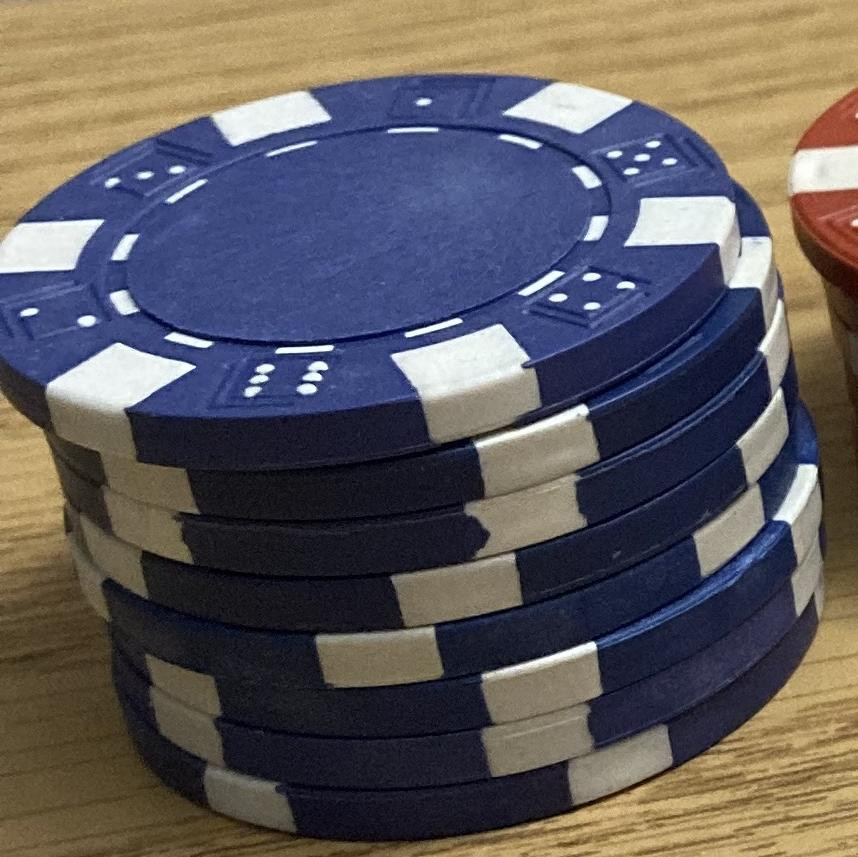Chip: (1, 1, 858, 857)
